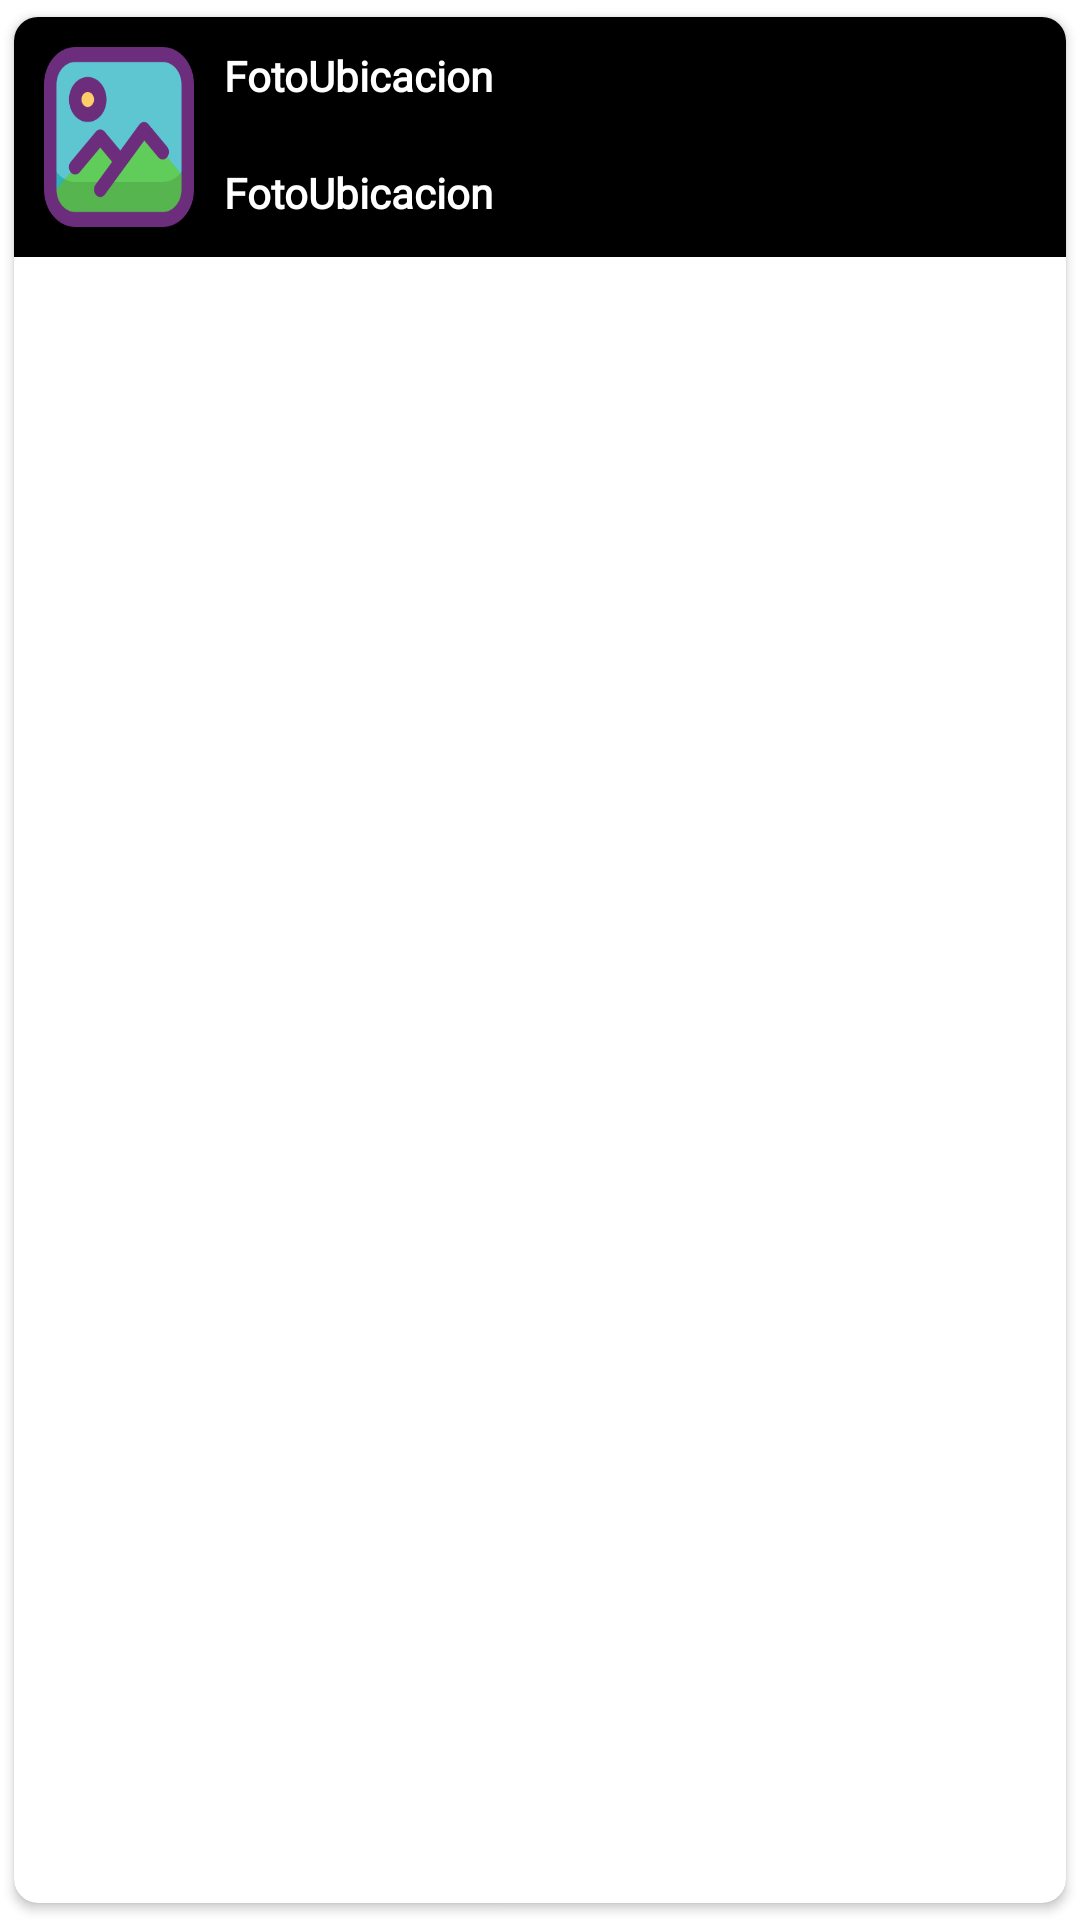

Screen size 1080px×1920px. Icon name, then its center in pixels as [x,y]:
imagenparalistado: [119,137]
